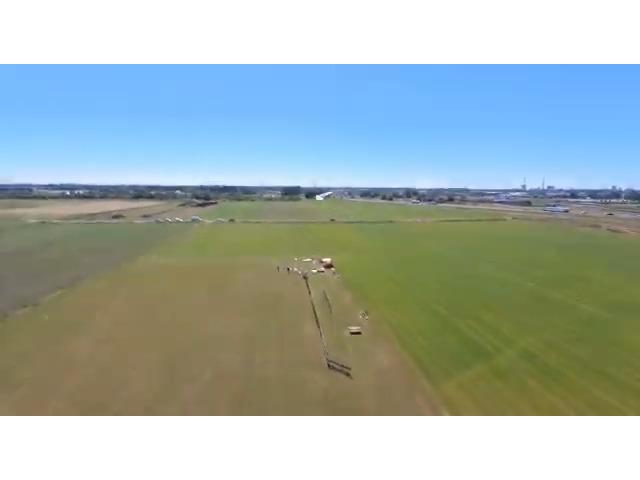Anti-Drone: (306, 174, 342, 213)
